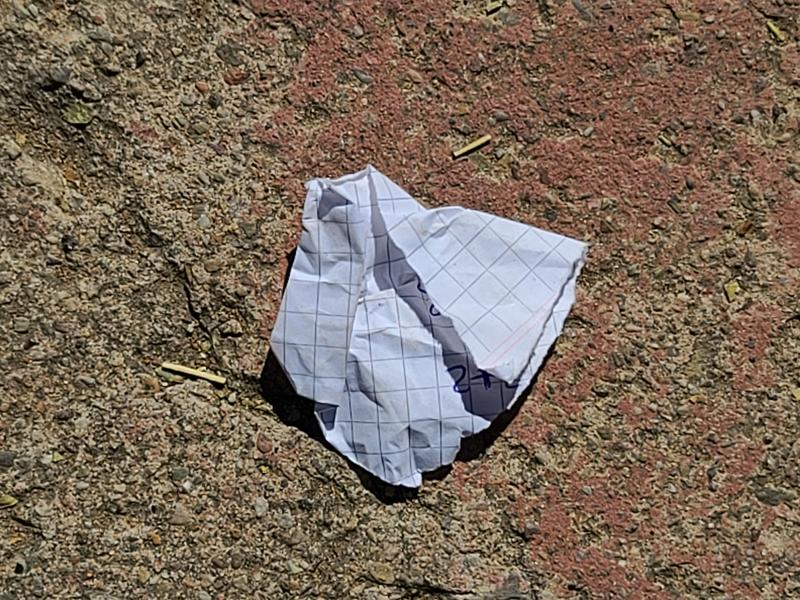papel: (270, 166, 588, 489)
